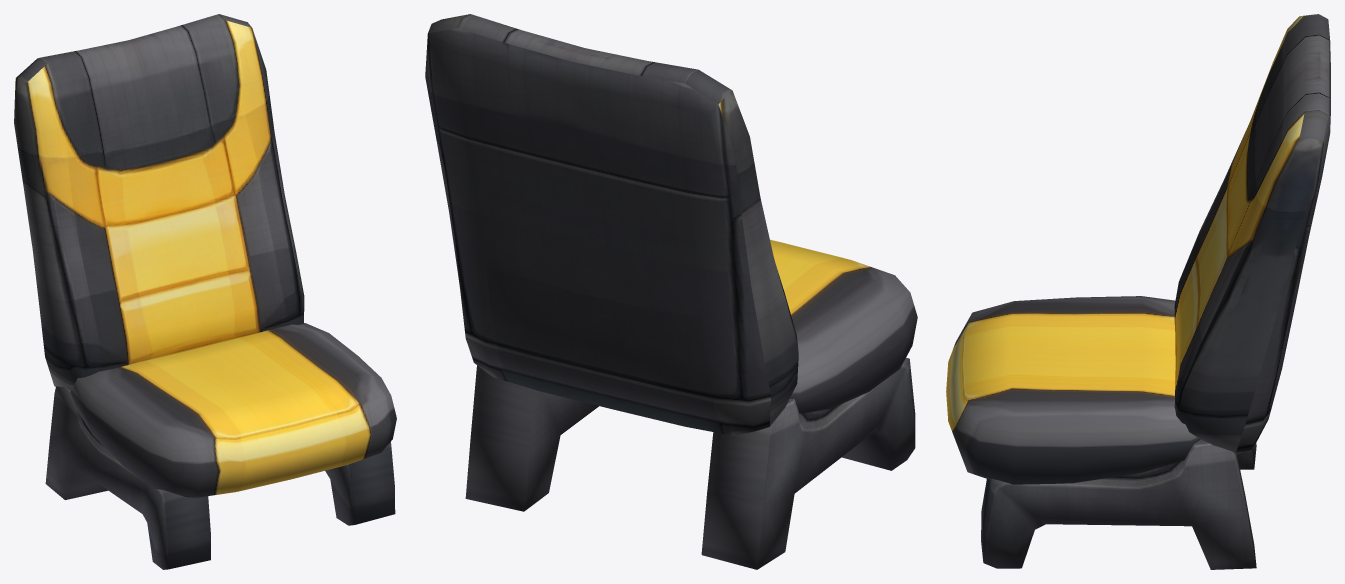
Rendered from ChairLV3_Good.fbx.
3 views of the same model, side by side, from view 1: azimuth 30°, elevation 25°; view 2: azimuth 150°, elevation 25°; view 3: azimuth 270°, elevation 25° (orthographic). The views are drawn at different scales.
Visible parts, largest first — view 1: ChairLv3; view 2: ChairLv3; view 3: ChairLv3.
Part boxes in pixels (bbox=[...]): ChairLv3: bbox=[14, 14, 396, 569]; ChairLv3: bbox=[425, 14, 917, 569]; ChairLv3: bbox=[946, 14, 1330, 569].
Bounding box in the file's own units: 92.43 × 141 × 111.
